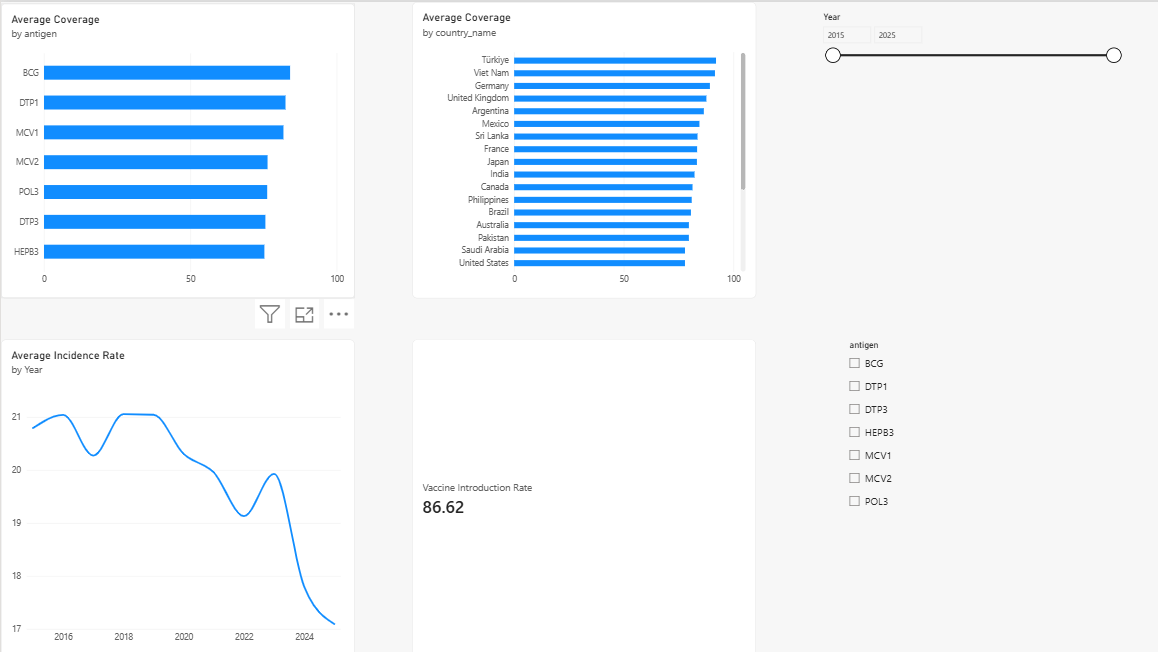

The dashboard page shown, as its layout file describes it:
{"tool":"powerbi","page":{"name":"Vaccination Analysis","canvas":[1920,1080],"ordinal":1},"visuals":[{"type":"barChart","fields":{"Category":["vaccination_analysis coverage_data.antigen"],"Y":["Year_Table.Average Coverage"]},"box":[0,2,582,486],"z":0},{"type":"lineChart","fields":{"Category":["Year_Table.Year"],"Y":["Year_Table.Average Incidence Rate"]},"box":[0,556,582,522],"z":1000},{"type":"barChart","fields":{"Category":["vaccination_analysis countries.country_name"],"Y":["Year_Table.Average Coverage"]},"box":[678,0,566,488],"z":2000},{"type":"cardVisual","fields":{"Data":["Year_Table.Vaccine Introduction Rate"]},"box":[678,556,566,524],"z":3000},{"type":"slicer","fields":{"Values":["Year_Table.Year"]},"box":[1346,16,502,378],"z":4000},{"type":"slicer","fields":{"Values":["vaccination_analysis coverage_data.antigen"]},"box":[1390,556,458,378],"z":5000}]}

Visuals, with their boxes in screenshot pixels (x1, y1, x2, y2), scaled from the page's 1920x1080 canvas onto the 1158x652 screenshot:
barChart - vaccination_analysis coverage_data.antigen x Year_Table.Average Coverage: locate(0, 1, 351, 295)
lineChart - Year_Table.Year x Year_Table.Average Incidence Rate: locate(0, 336, 351, 651)
barChart - vaccination_analysis countries.country_name x Year_Table.Average Coverage: locate(409, 0, 750, 295)
cardVisual - Year_Table.Vaccine Introduction Rate: locate(409, 336, 750, 651)
slicer - Year_Table.Year: locate(812, 10, 1115, 238)
slicer - vaccination_analysis coverage_data.antigen: locate(838, 336, 1115, 564)
